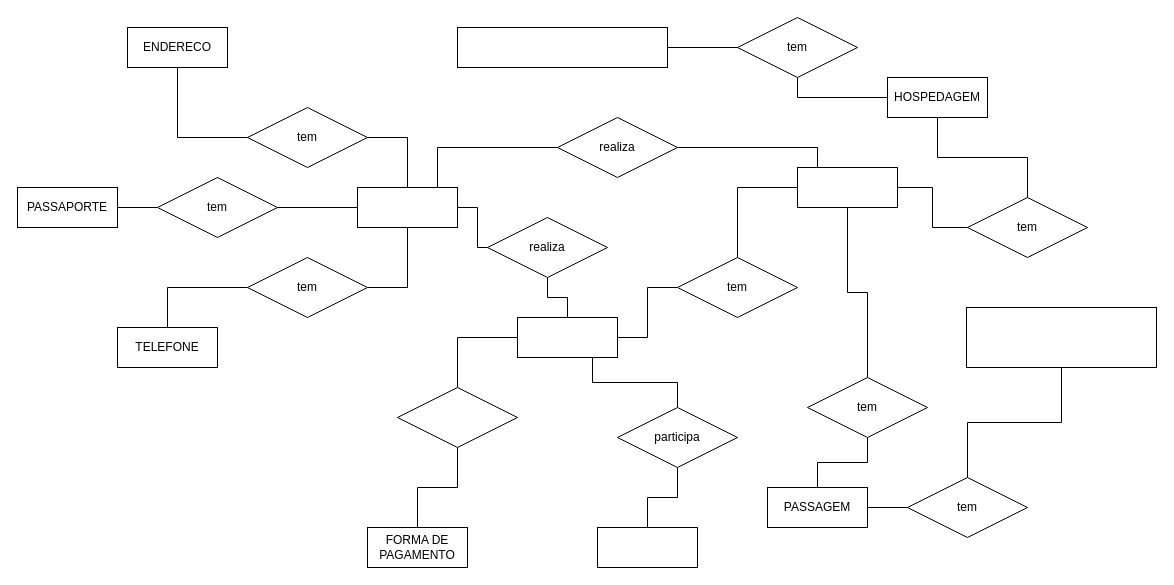
The diagram is 1174 pixels wide and 585 high, and some of its shapes have lost their labels. The centre of each missing label's shape, as x and y in pixels:
CLIENTE: the point at 407,207
DISPONIBILIDADE_HOSPEDAGEM: the point at 562,47
DISPONIBILIDADE_PASSAGEM: the point at 1061,337
FUNCIONARIO: the point at 647,547
Relationship: the point at 457,417
VENDA: the point at 567,337
VIAGEM: the point at 847,187
